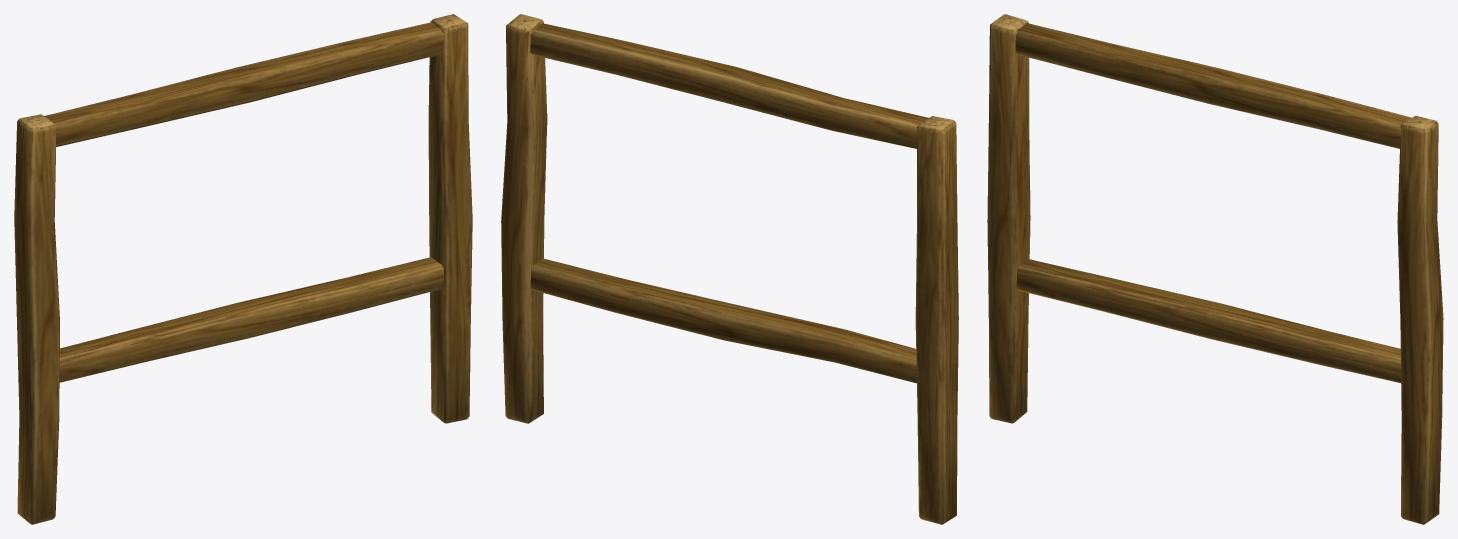
File: Fence_Var1_1.fbx
3 renders of one model, left to right at view 1: azimuth 30°, elevation 25°; view 2: azimuth 150°, elevation 25°; view 3: azimuth 330°, elevation 25°, orthographic.
Visible parts, largest first — view 1: Fence_Var1_1_LOD0; view 2: Fence_Var1_1_LOD0; view 3: Fence_Var1_1_LOD0.
Boxes of the visible parts, bbox=[...] form: Fence_Var1_1_LOD0: bbox=[14, 14, 472, 524]; Fence_Var1_1_LOD0: bbox=[501, 14, 958, 524]; Fence_Var1_1_LOD0: bbox=[987, 14, 1443, 524].
Bounding box in the file's own units: 152 × 10.99 × 130.
Materials: 1 (1 with a texture image).
